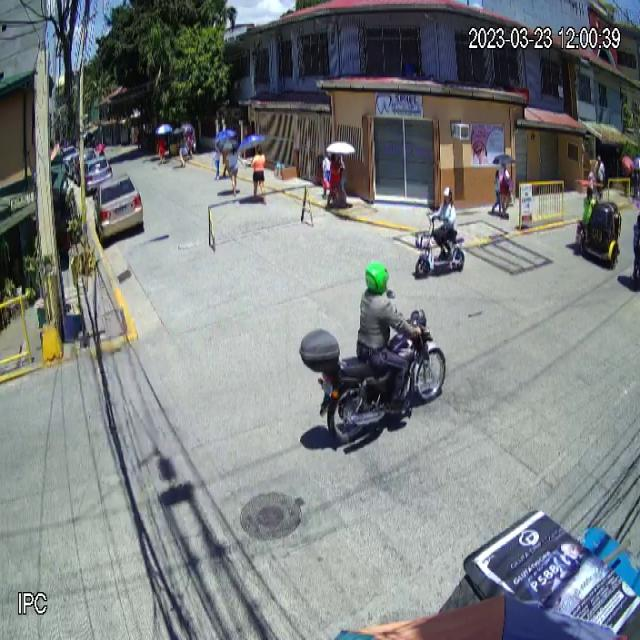Motorcycle: (299, 287, 448, 449)
Tricycle: (574, 178, 622, 270)
